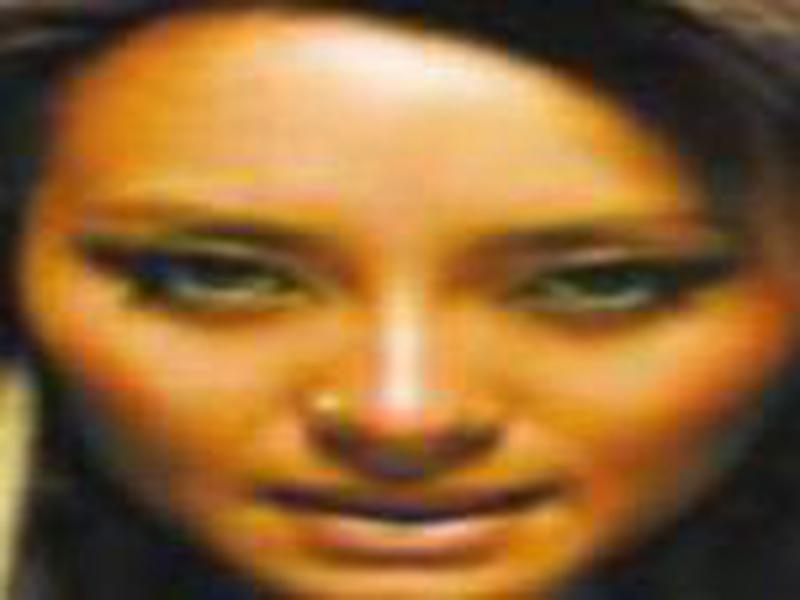without_mask: (49, 57, 763, 582)
